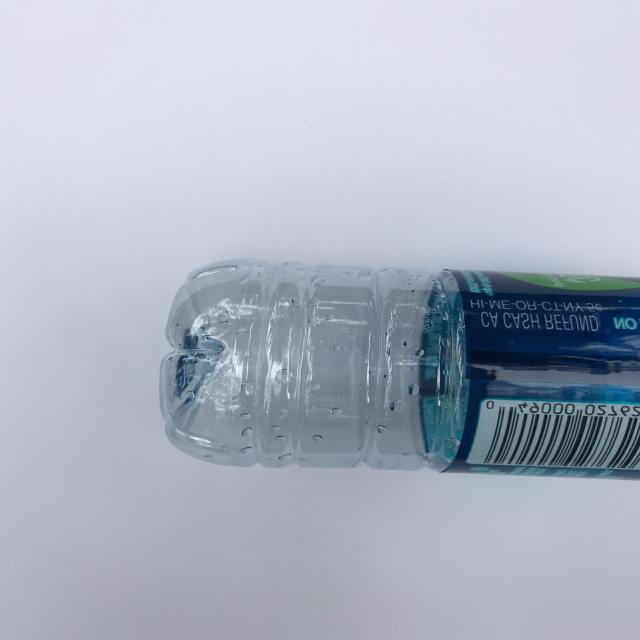plastic: (159, 257, 640, 480)
